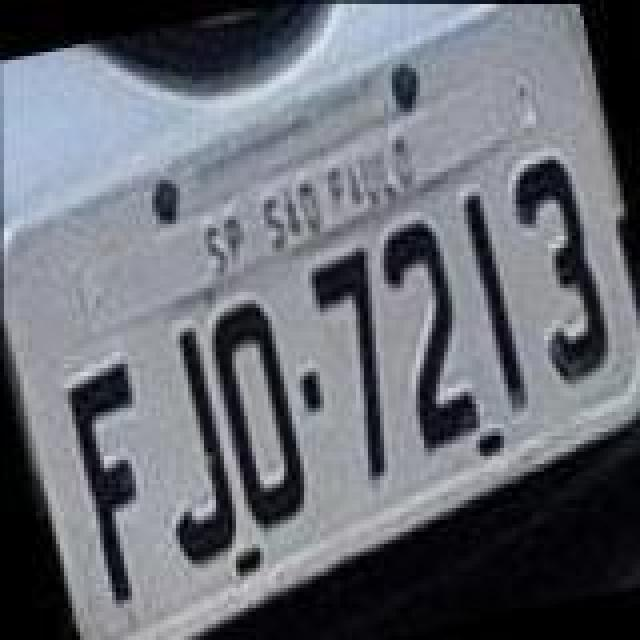1: (460, 182, 536, 414)
2: (368, 206, 484, 454)
3: (504, 146, 620, 390)
7: (302, 240, 414, 484)
F: (56, 352, 180, 608)
J: (128, 326, 244, 574)
O: (200, 292, 316, 536)
